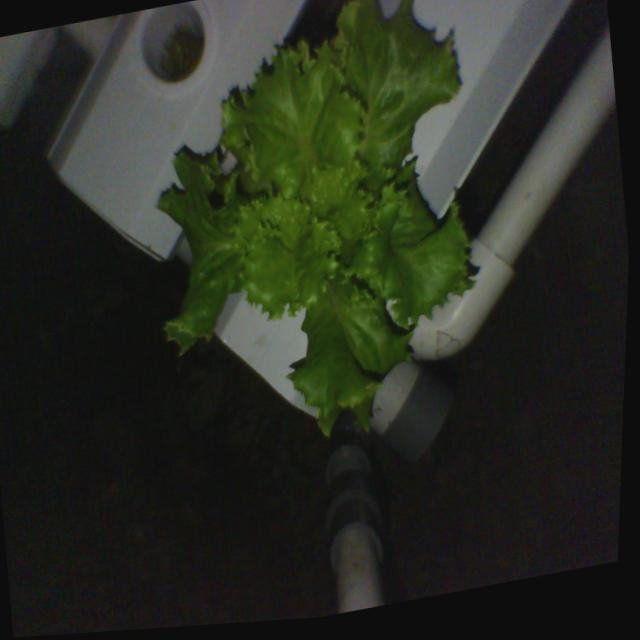FN: (103, 0, 525, 492)
